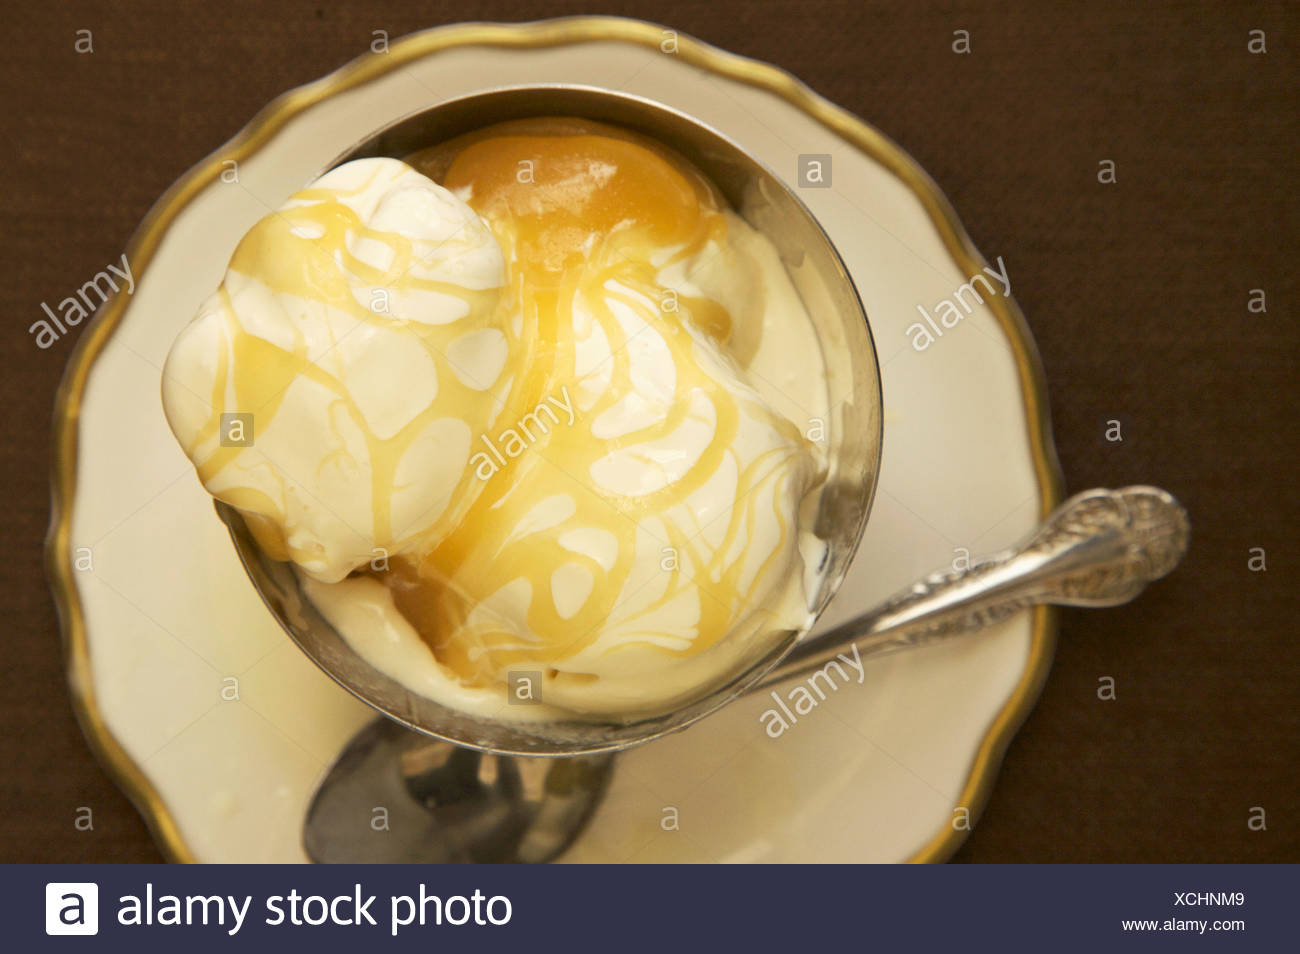ice-cream: (469, 286, 830, 709), (159, 160, 499, 560)
